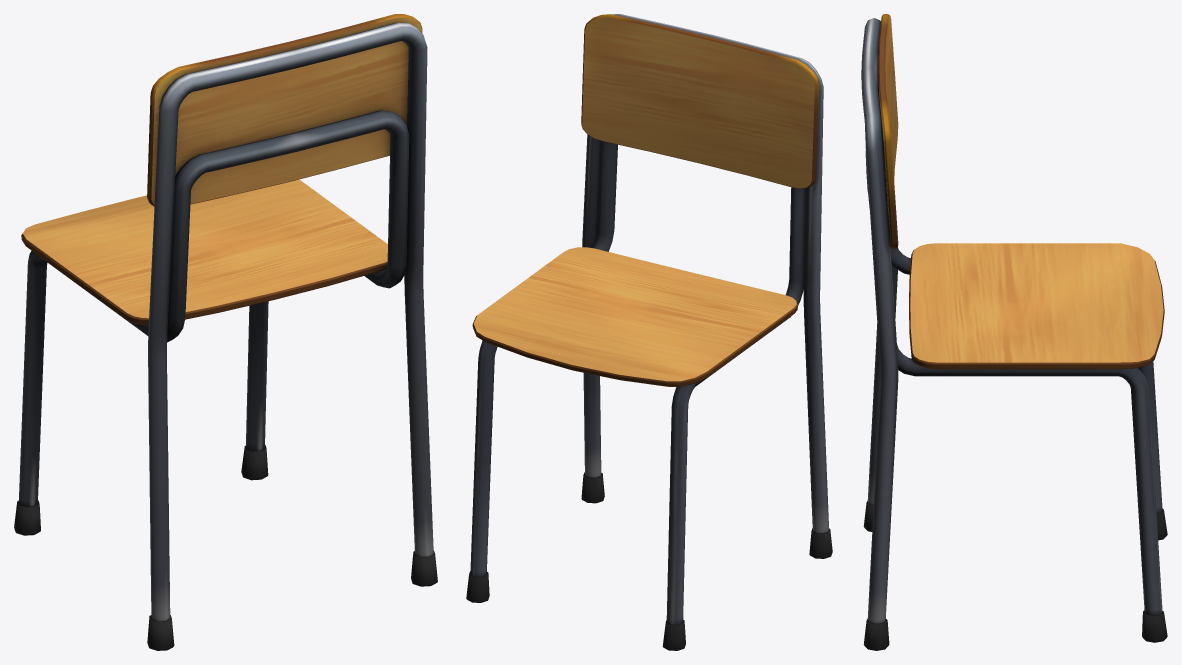
File: Japanese Style Chair.fbx
3 renders of one model, left to right at view 1: azimuth 30°, elevation 25°; view 2: azimuth 150°, elevation 25°; view 3: azimuth 270°, elevation 25°, orthographic. The views are drawn at different scales.
Visible parts, largest first — view 1: japanschoolchair; view 2: japanschoolchair; view 3: japanschoolchair.
Boxes of the visible parts, box(x1,y1,x2,y2) form: japanschoolchair: box(14, 14, 437, 650); japanschoolchair: box(466, 14, 832, 650); japanschoolchair: box(861, 14, 1167, 650).
Size of the model in its own units: 42.81 by 80.85 by 42.97.
Materials: 1 (1 with a texture image).
